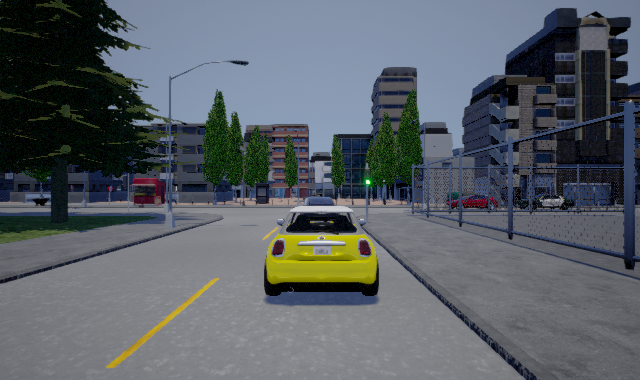traffic_light: (365, 165, 370, 188)
vehicle: (264, 197, 379, 296), (516, 193, 574, 210), (445, 196, 500, 209)
